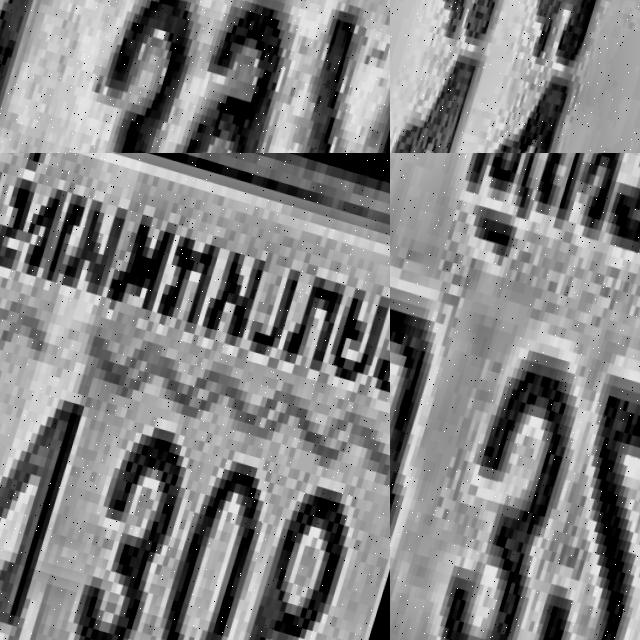license-plate: (0, 153, 390, 640), (390, 153, 640, 640), (0, 0, 390, 153), (390, 0, 640, 153)
